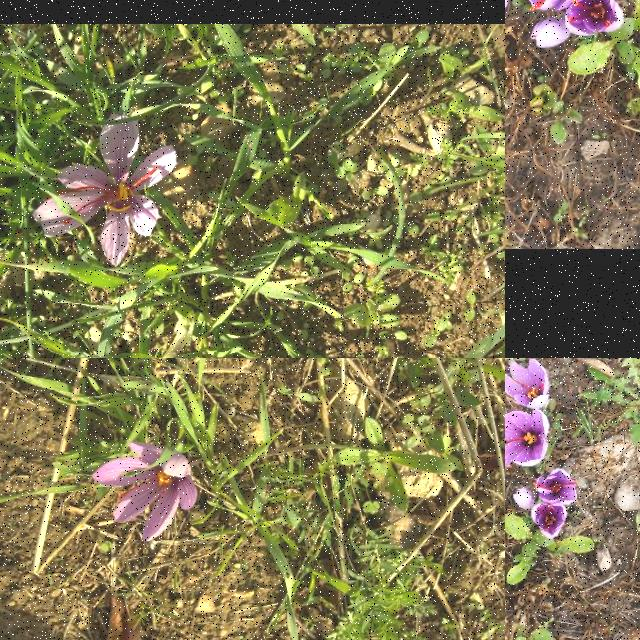flower: (34, 114, 176, 266), (92, 442, 200, 542), (505, 410, 549, 467), (561, 0, 622, 37), (505, 359, 548, 410), (533, 468, 577, 504), (530, 18, 570, 50), (532, 504, 566, 540), (513, 488, 537, 510)
